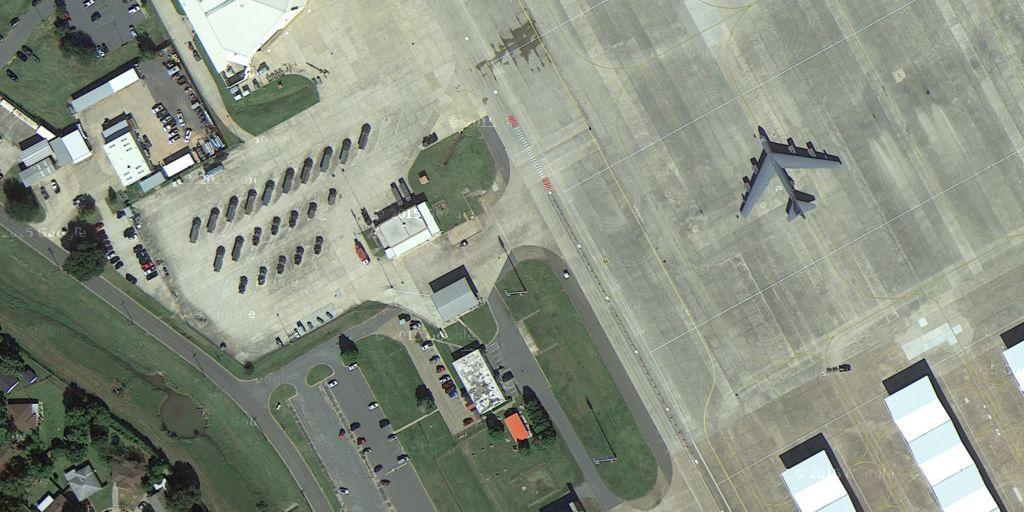B-52: (735, 127, 845, 226)
